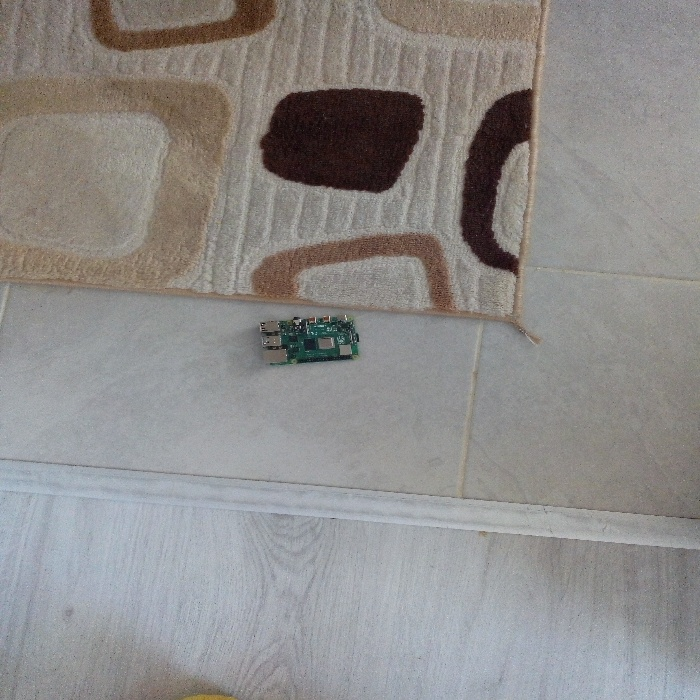raspberry: (242, 308, 374, 374)
